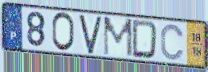8: (26, 11, 47, 49)
C: (159, 23, 185, 62)
D: (131, 18, 160, 60)
M: (102, 16, 134, 59)
O: (50, 11, 76, 53)
V: (78, 14, 104, 56)
